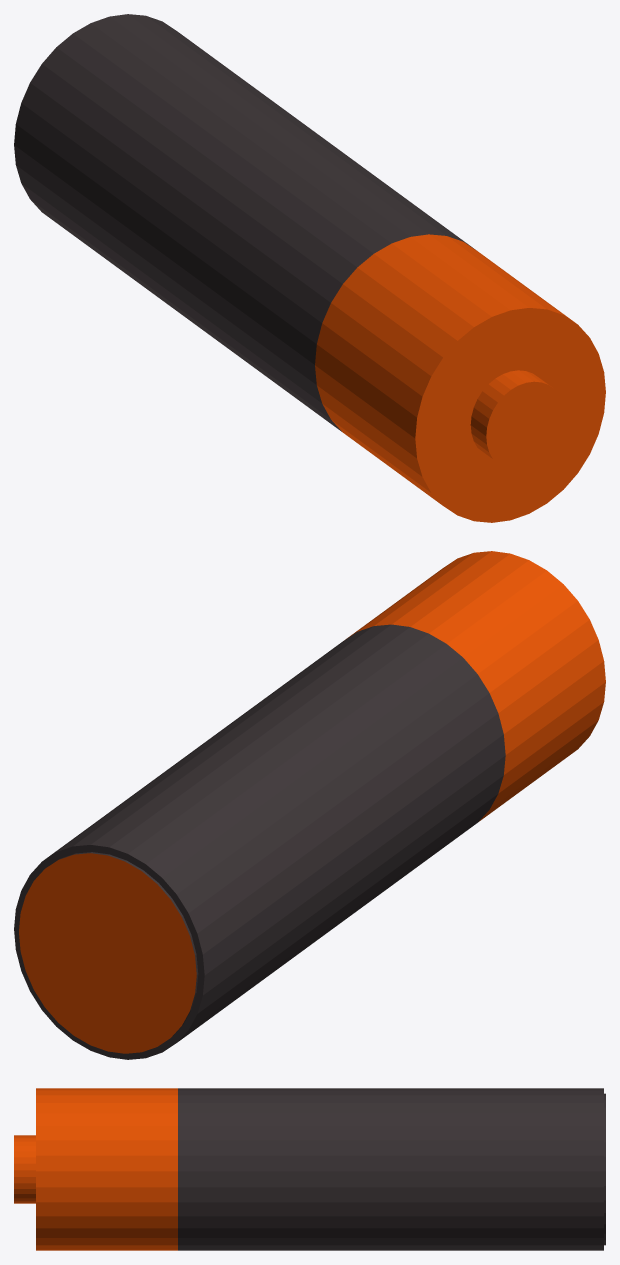
File: Battery.fbx
3 views of the same model, one above another, from view 1: azimuth 30°, elevation 25°; view 2: azimuth 150°, elevation 25°; view 3: azimuth 270°, elevation 25° (orthographic). The views are drawn at different scales.
Parts seen in each view (by area): view 1: Cylinder; view 2: Cylinder; view 3: Cylinder.
Boxes of the visible parts, left/top/right/bottom form: Cylinder: left=14, top=14, right=605, bottom=522; Cylinder: left=14, top=551, right=605, bottom=1059; Cylinder: left=14, top=1088, right=605, bottom=1250.
Size of the model in its own units: 23.99 by 25.25 by 91.16.
